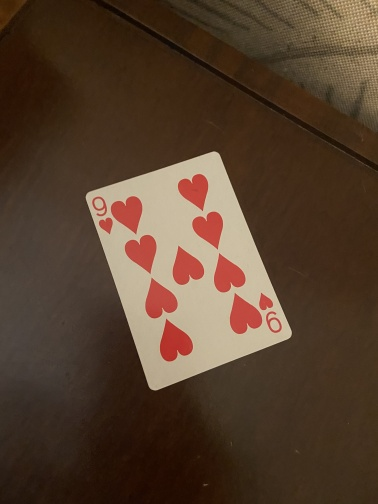nine: (83, 150, 293, 392)
